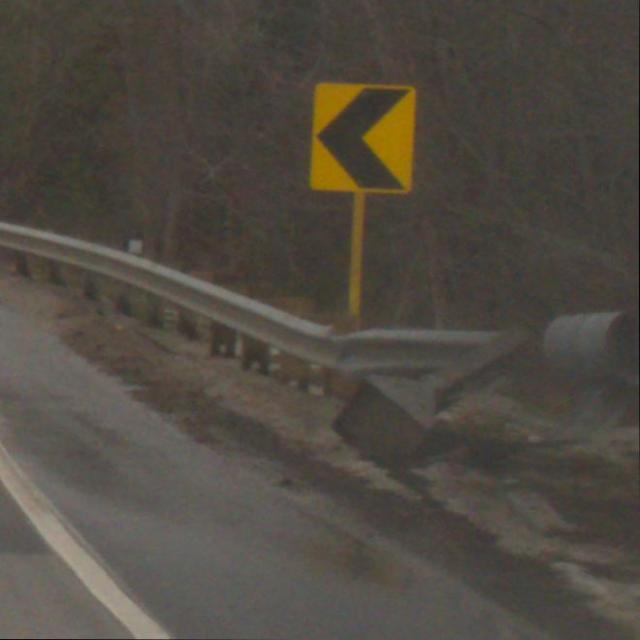Guard rail: (0, 219, 529, 402)
